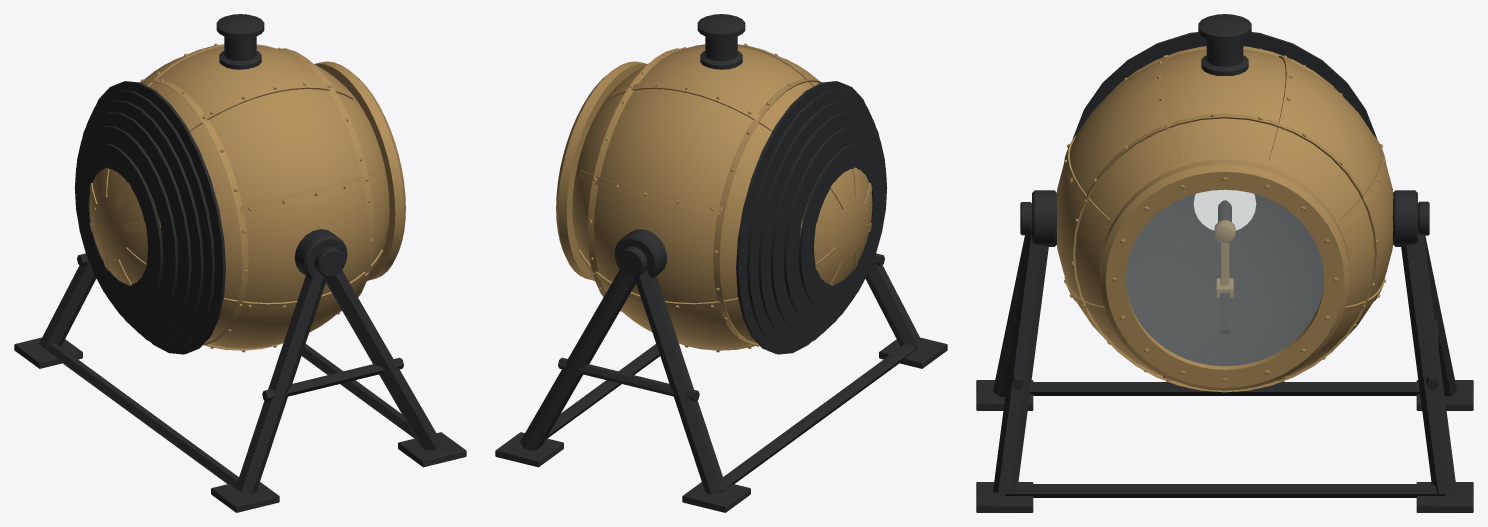
The model's file is sun_lamp.glb.
3 views of the same model, side by side, from view 1: azimuth 30°, elevation 25°; view 2: azimuth 150°, elevation 25°; view 3: azimuth 270°, elevation 25° (orthographic). The views are drawn at different scales.
Parts seen in each view (by area): view 1: sun_lamp; view 2: sun_lamp; view 3: sun_lamp, arc_glow, rod_b.
Part boxes in pixels (<box>): sun_lamp: <box>14,14,466,512</box>; sun_lamp: <box>495,14,947,512</box>; sun_lamp: <box>976,14,1473,512</box>; arc_glow: <box>1193,189,1256,230</box>; rod_b: <box>1214,200,1235,297</box>.
Size of the model in its own units: 2.25 by 3.32 by 3.5.
